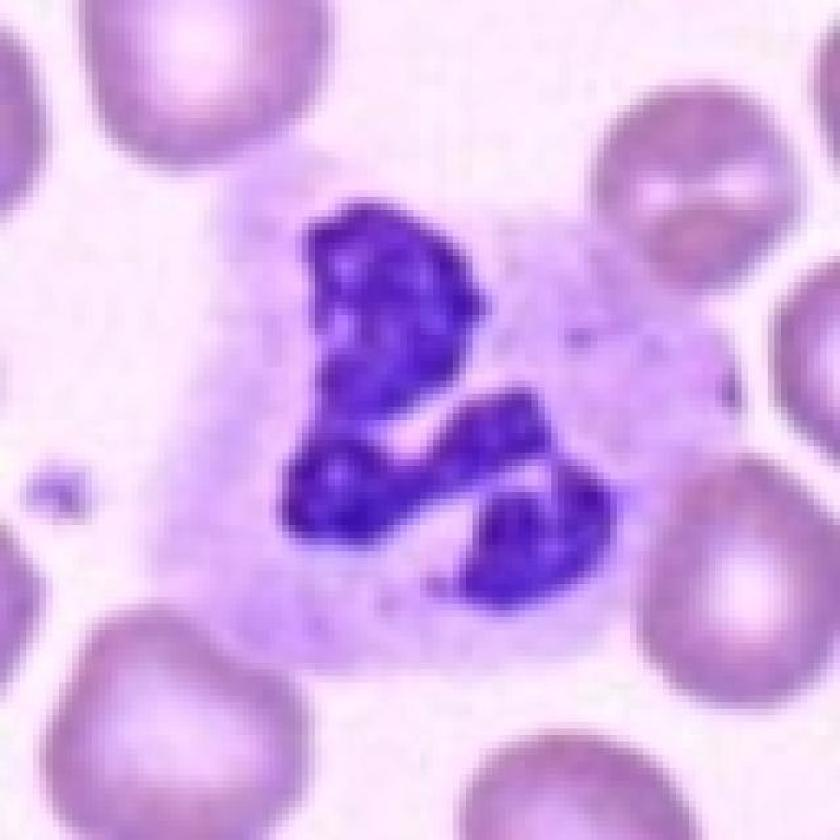neutrophil: (97, 152, 743, 691)
